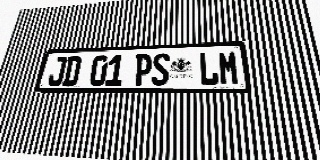0: (89, 55, 109, 86)
1: (105, 55, 125, 86)
D: (62, 56, 82, 86)
J: (47, 57, 67, 86)
L: (199, 51, 219, 85)
M: (218, 50, 240, 85)
P: (133, 54, 152, 86)
S: (151, 53, 170, 85)
